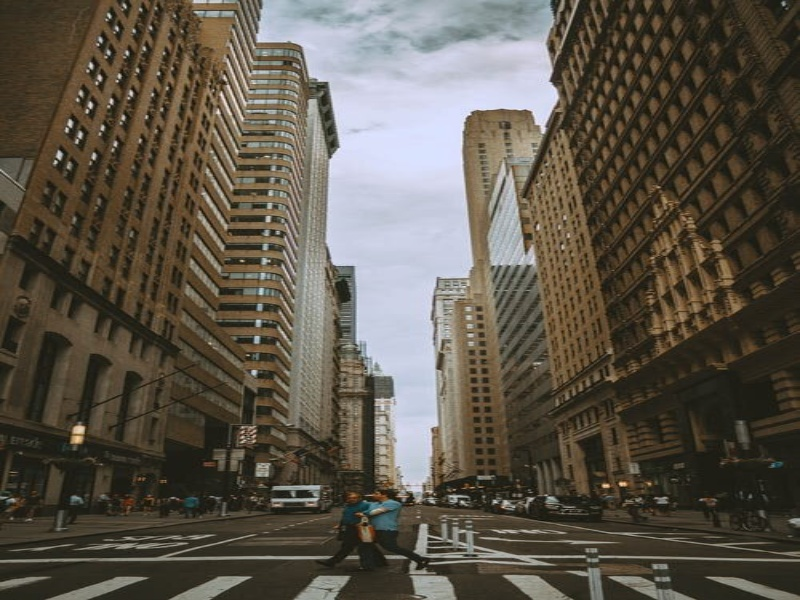zebra cross: (8, 568, 793, 600)
